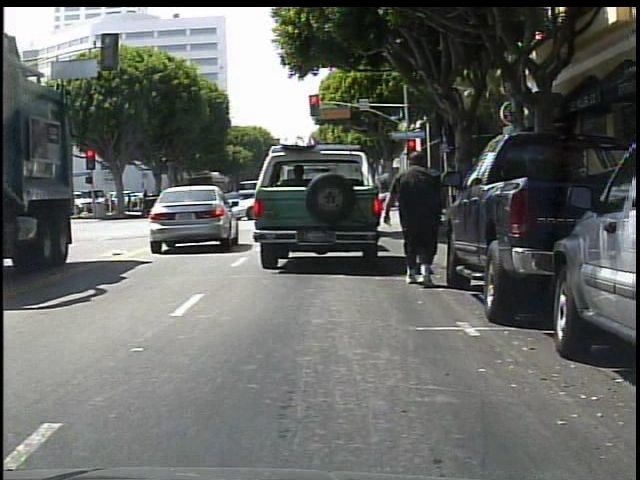person: (393, 147, 450, 288)
